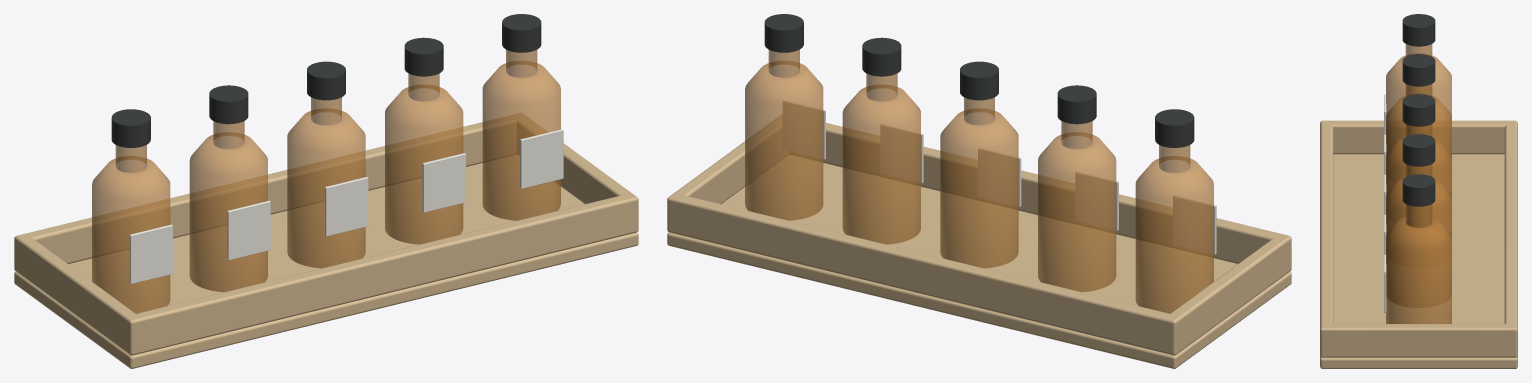
The model's file is candlemaking-and-soap-workshop-fragrance-bottle-rack-f738cd2b__30670.glb.
3 renders of one model, left to right at view 1: azimuth 30°, elevation 25°; view 2: azimuth 150°, elevation 25°; view 3: azimuth 270°, elevation 25°, orthographic. The views are drawn at different scales.
Visible parts, largest first — view 1: fragrance-bottle-rack; view 2: fragrance-bottle-rack; view 3: fragrance-bottle-rack.
Boxes of the visible parts, bbox=[...] form: fragrance-bottle-rack: bbox=[14, 14, 638, 368]; fragrance-bottle-rack: bbox=[667, 14, 1291, 368]; fragrance-bottle-rack: bbox=[1320, 14, 1517, 368].
Bounding box in the file's own units: 0.6 × 0.22 × 0.24.
